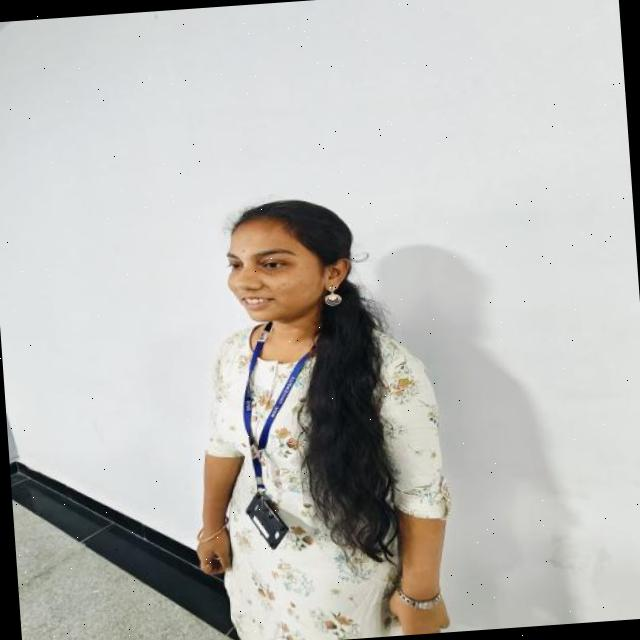Card: (247, 492, 288, 548)
Id strap: (244, 322, 314, 492)
